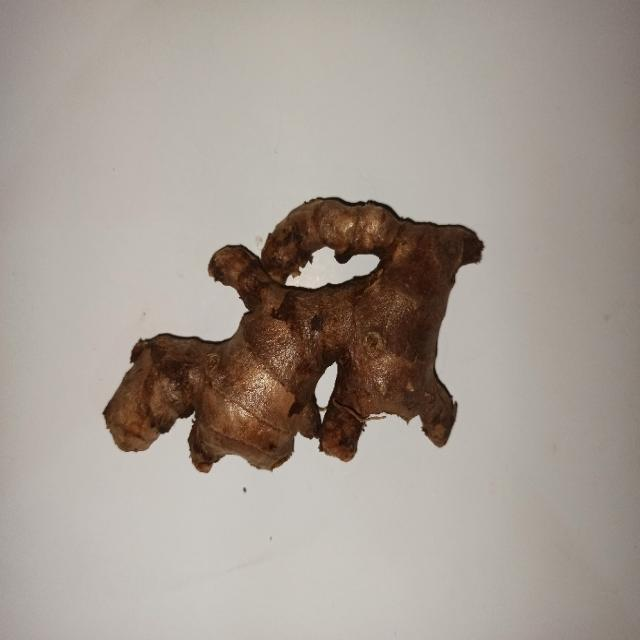ginger: (104, 203, 453, 449)
